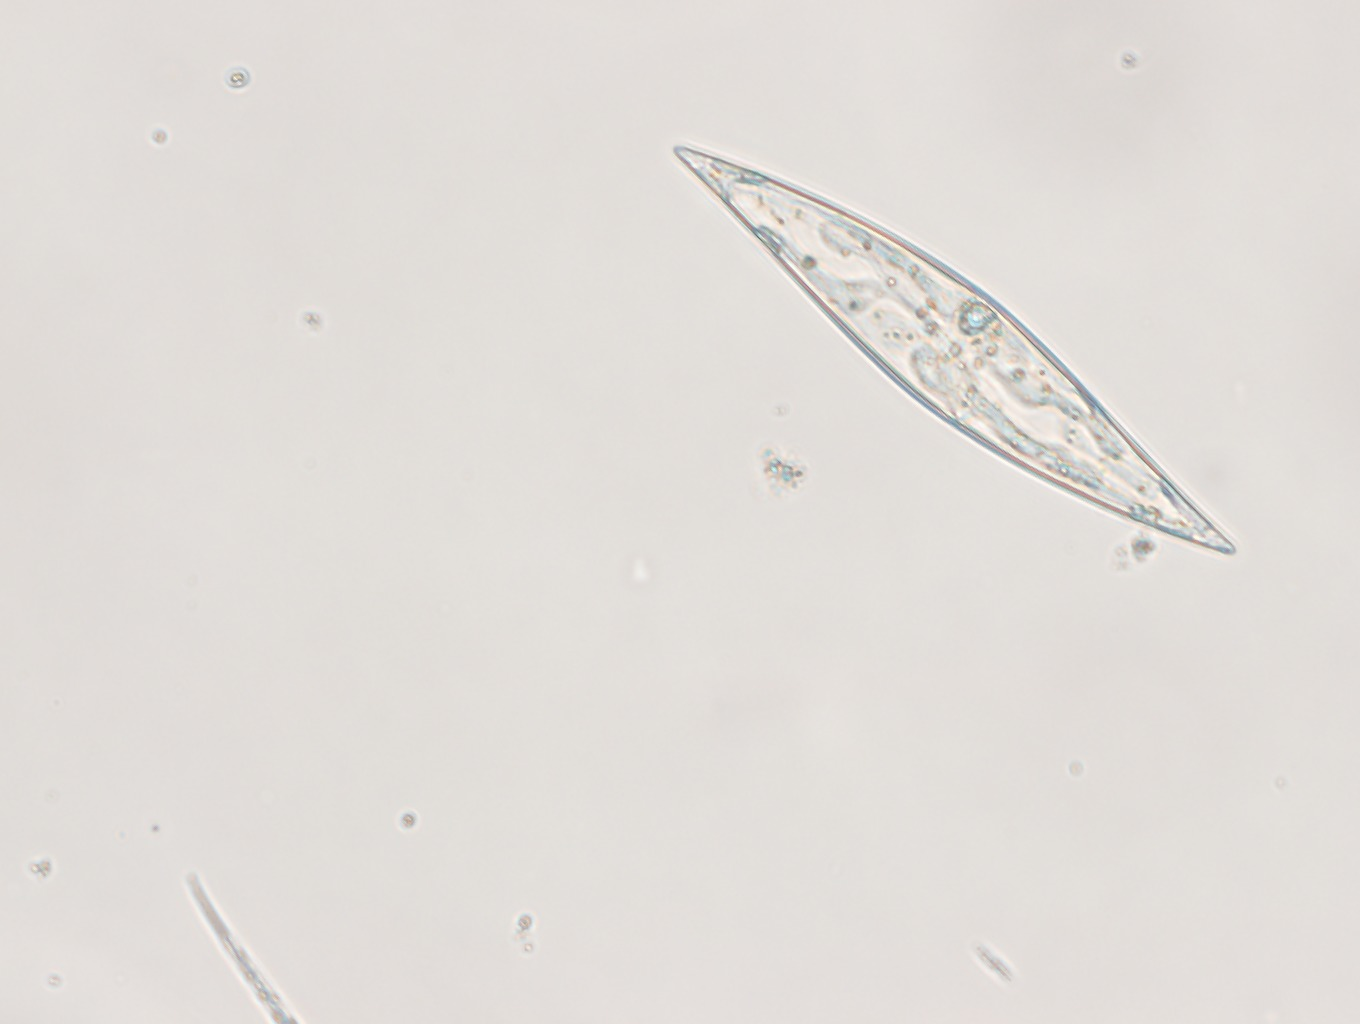pleurosigma pelagicum: (672, 144, 1237, 557)
